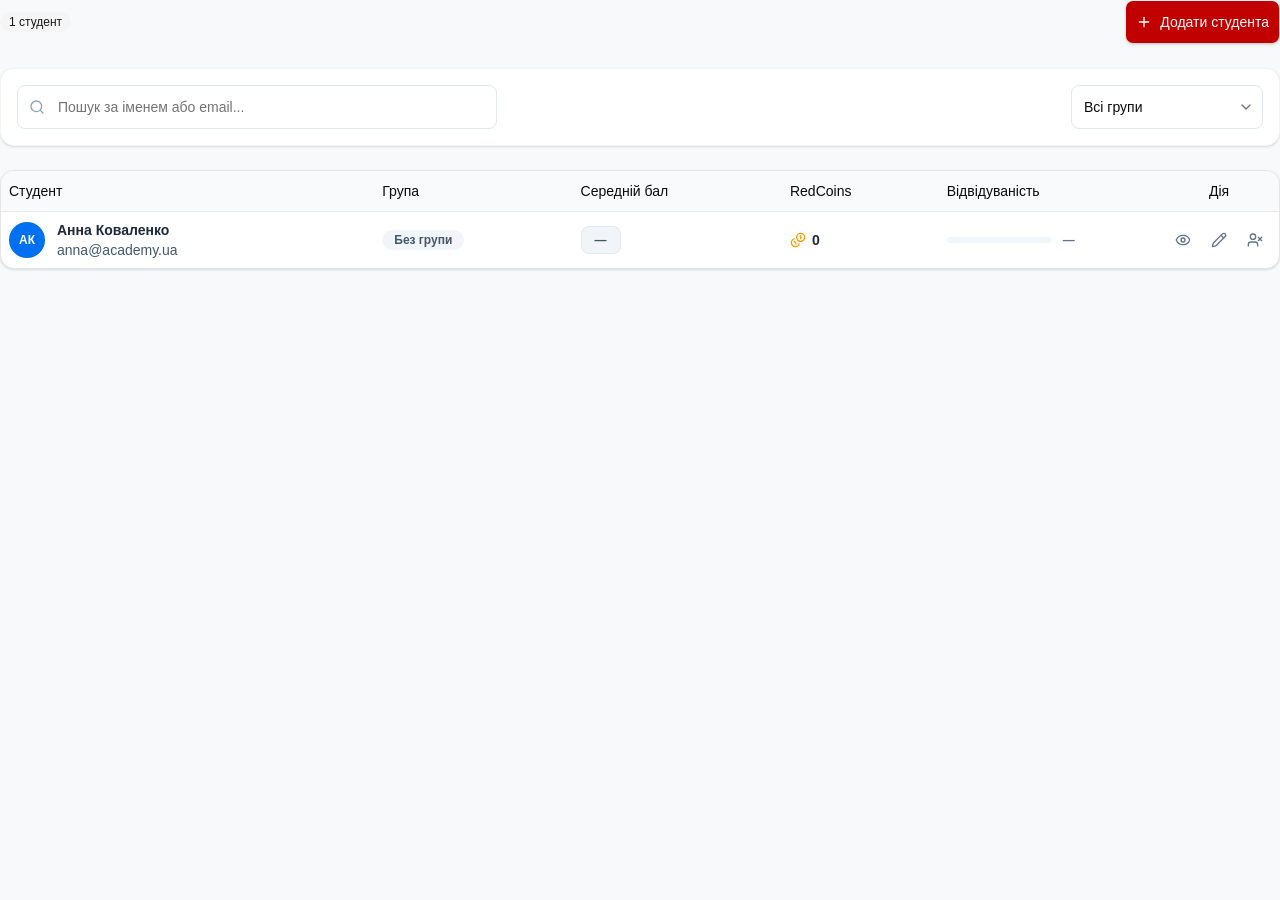
Test: StudentsPage — деактивація › «Скасувати» в діалозі нічого не змінює
This screenshot has width=1280, height=900.
Expected: the text "Анна Коваленко" is shown, [57,220,178,240]
Step 1. Click the button named "Деактивувати: Анна Коваленко" → (1255, 240), box [1239,224,1271,256]
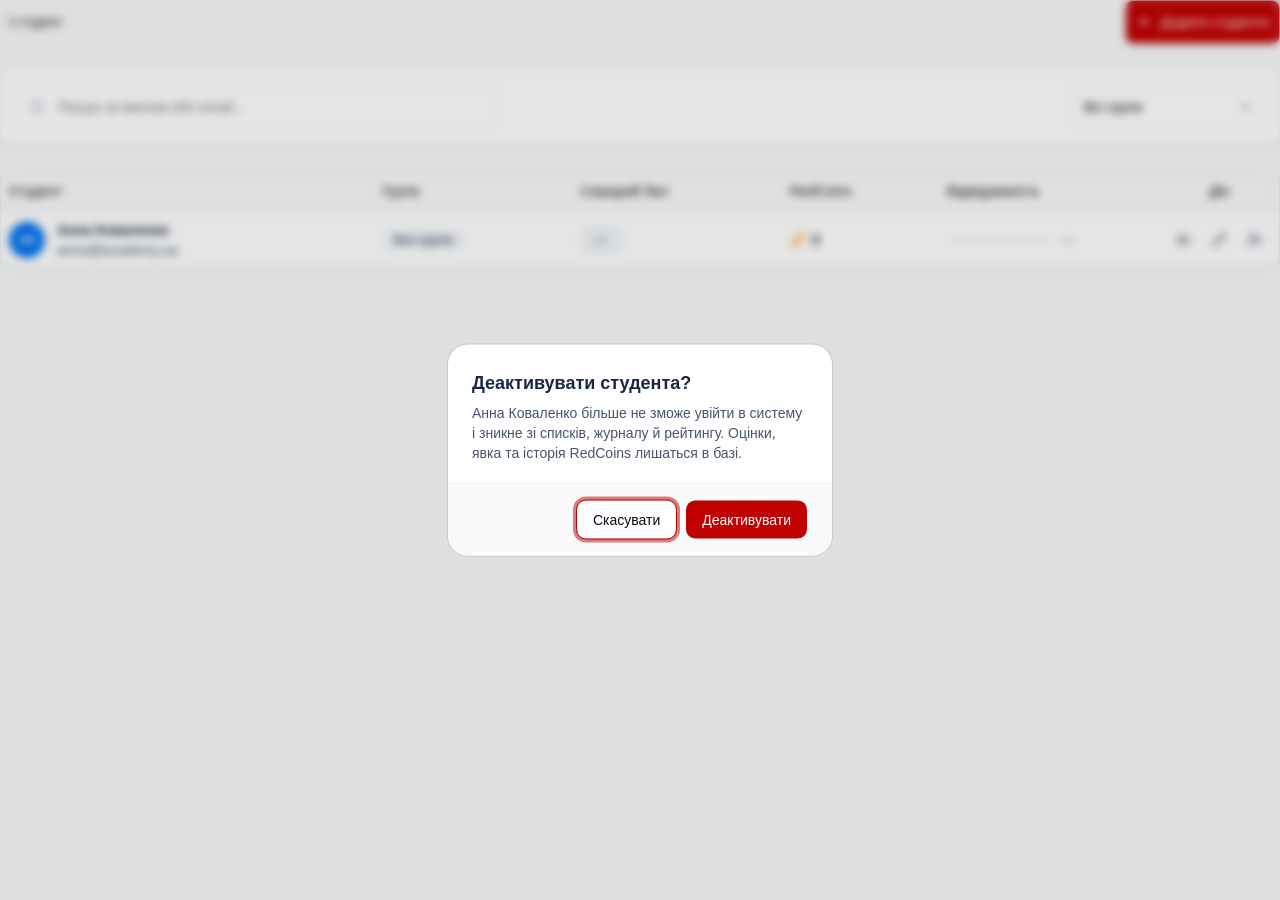
Step 2. Click the button "Скасувати" → (627, 520), box [576,500,677,540]
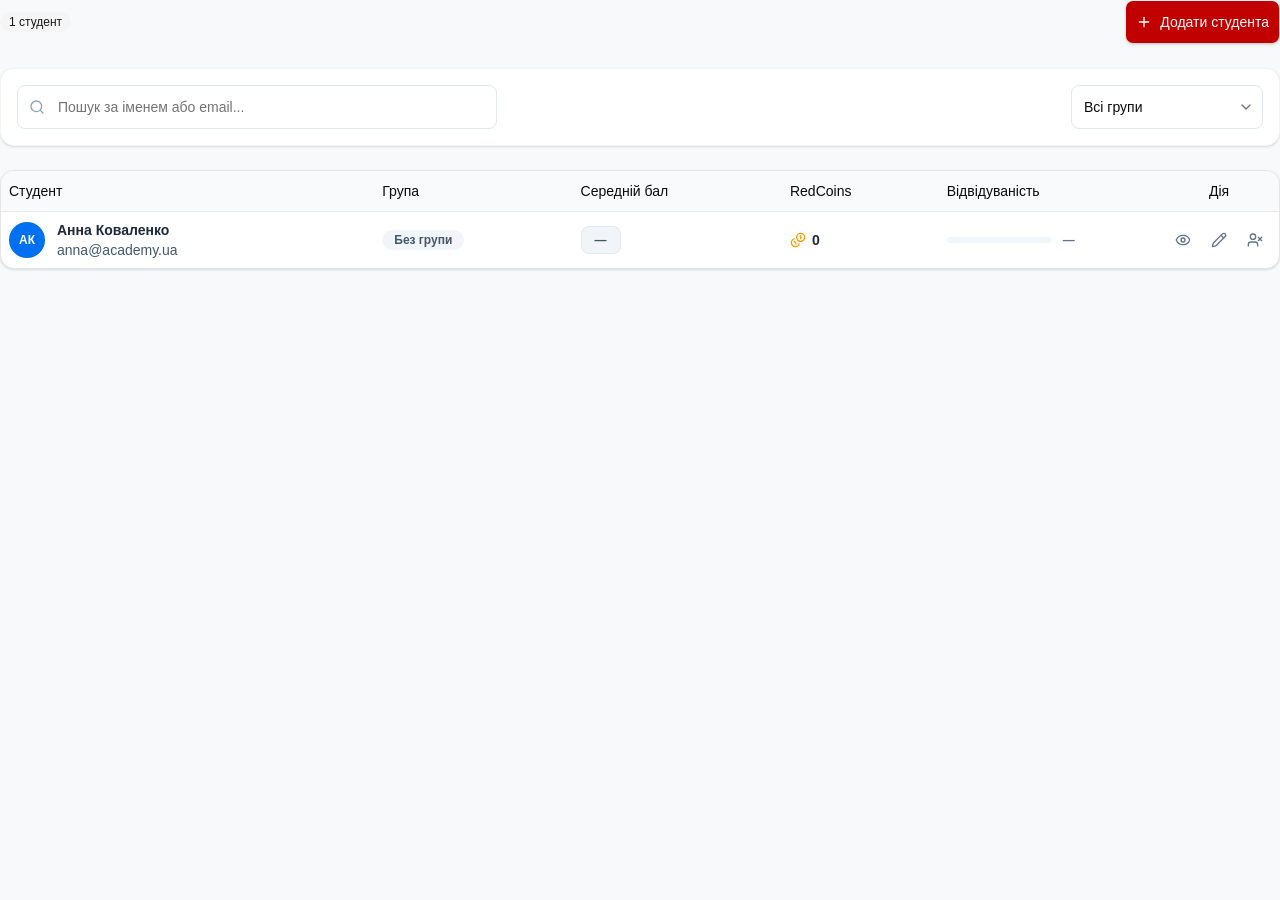
Expected: the text "Анна Коваленко" is shown, [57,220,178,240]
Now the dialog is gone
